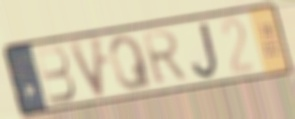2: (220, 15, 258, 78)
B: (33, 43, 78, 106)
J: (189, 20, 221, 82)
Q: (107, 33, 156, 93)
R: (139, 28, 190, 87)
V: (65, 34, 108, 102)
